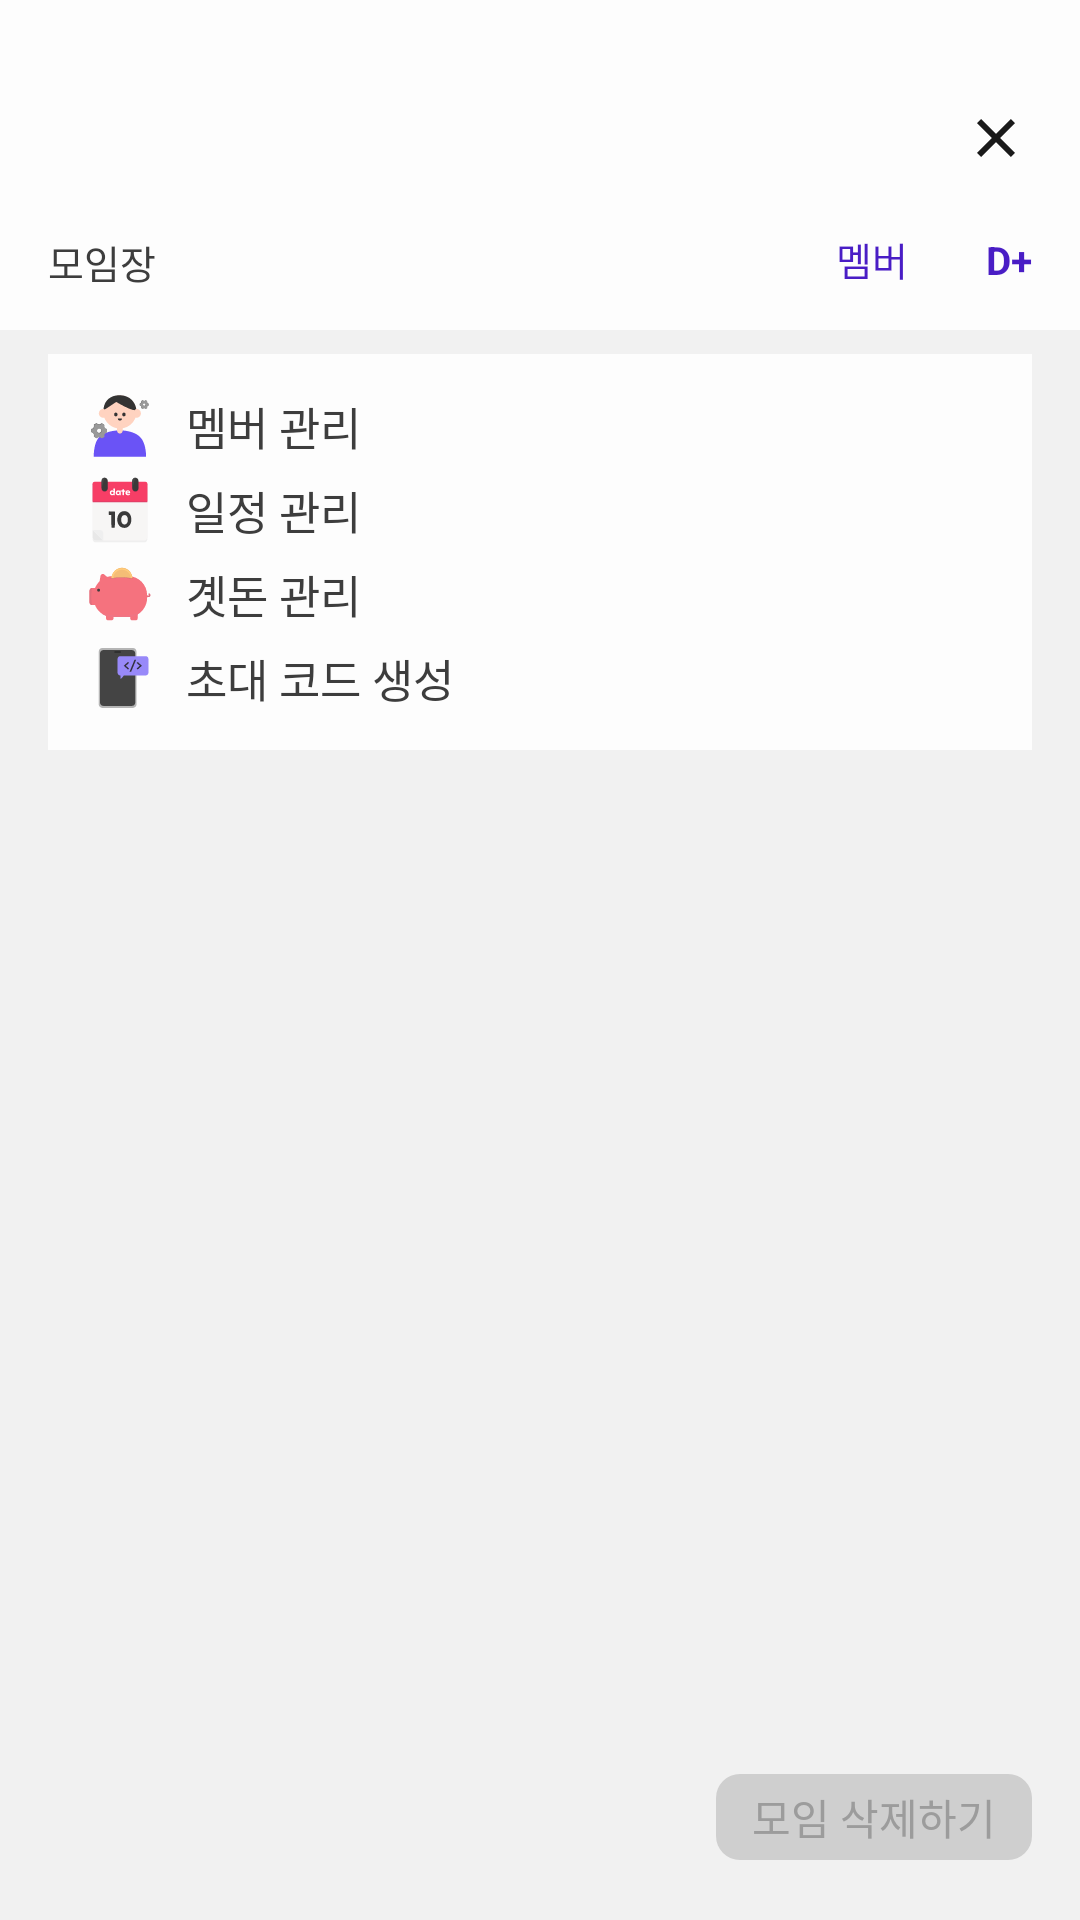

Named icons in this screenshot (1080px x 1920px) and their centers, point (x, y):
close: point (996, 138)
code: point (124, 678)
member setting: point (120, 426)
pig: point (120, 594)
